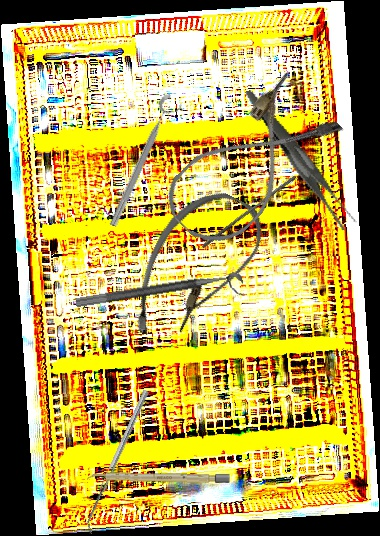Cannula: (154, 69, 347, 260), (117, 175, 275, 363)
Dressing Forceps: (245, 71, 358, 246)
Fixation Ring: (105, 91, 186, 233), (75, 271, 245, 322)
Pusher: (201, 172, 297, 252)
Scalpel Handle: (86, 471, 231, 484)
Spatula Surgical: (81, 389, 154, 535)
